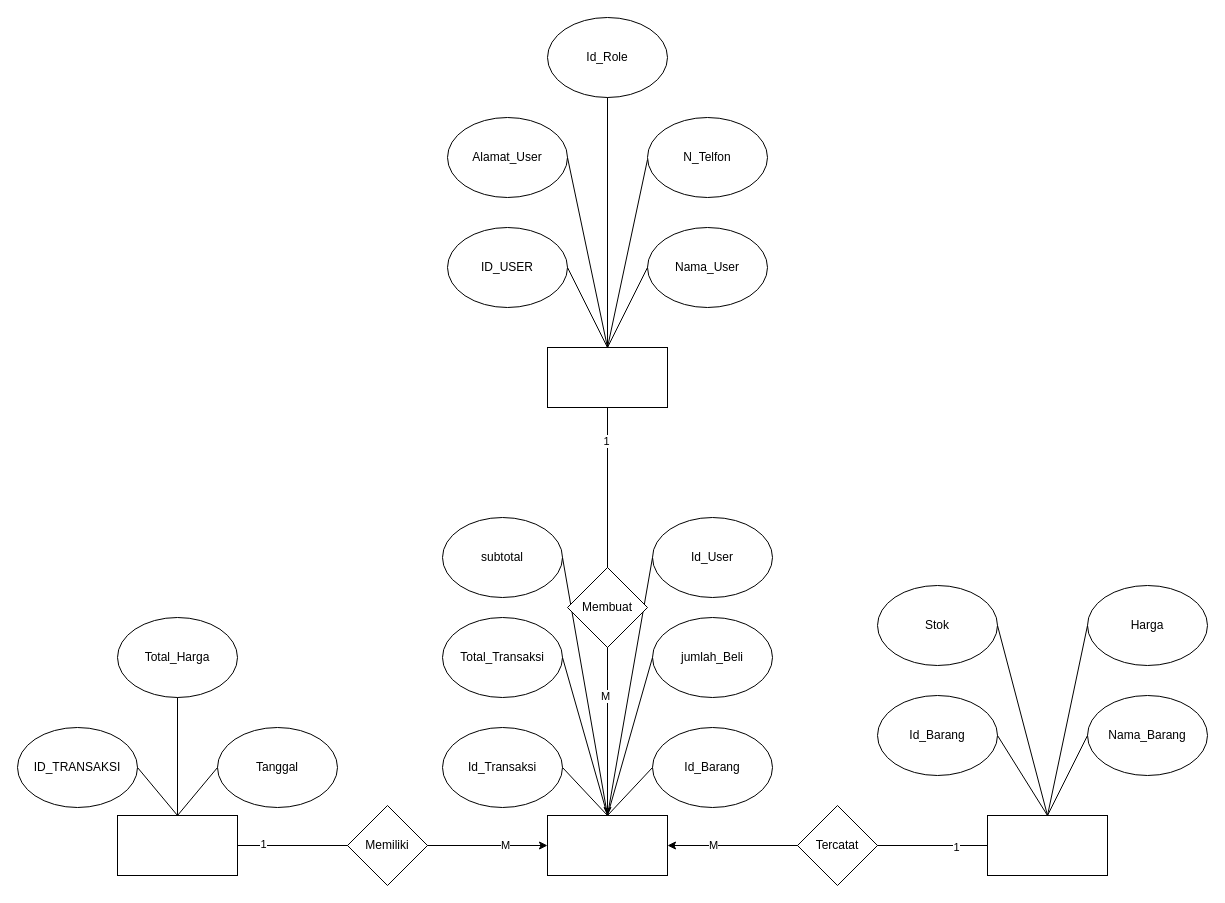
The diagram is 1225 pixels wide and 903 high, and some of its shapes have lost their labels. Here are the shapes that lost their labels. From the top down, the centre of each, then its label:
At (x=607, y=377): "User".
At (x=177, y=845): "Transaksi".
At (x=607, y=845): "Detail Transaksi".
At (x=1047, y=845): "Barang".
